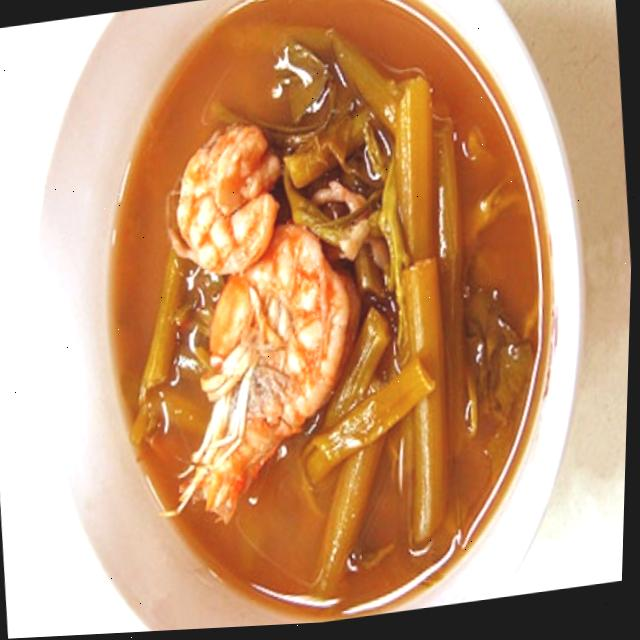汤锅炖物: (8, 0, 605, 639)
